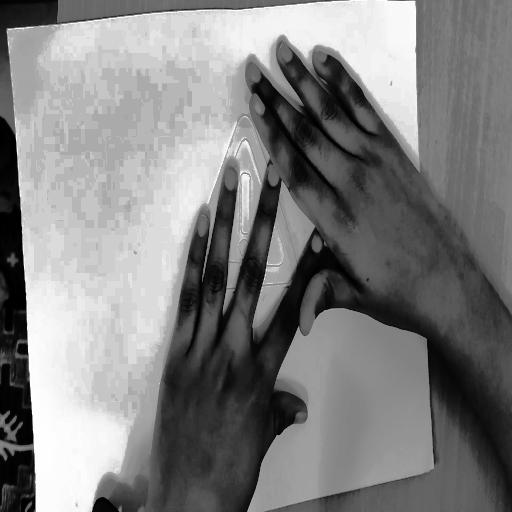bottom_right: (429, 459, 439, 474)
signboard: (187, 90, 315, 434)
top_left: (4, 24, 11, 37)
